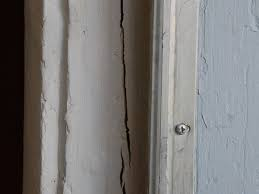crack: (116, 0, 131, 165), (116, 145, 128, 192)
